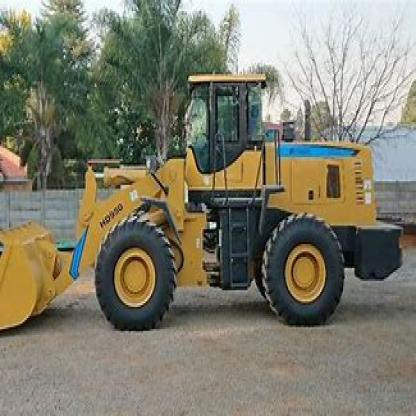bull_dozer/loader/grader: (0, 63, 415, 344)
